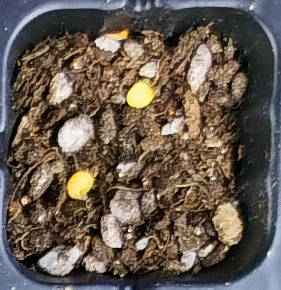pepper seed: (18, 69, 113, 271), (47, 22, 203, 132), (36, 4, 168, 48)
